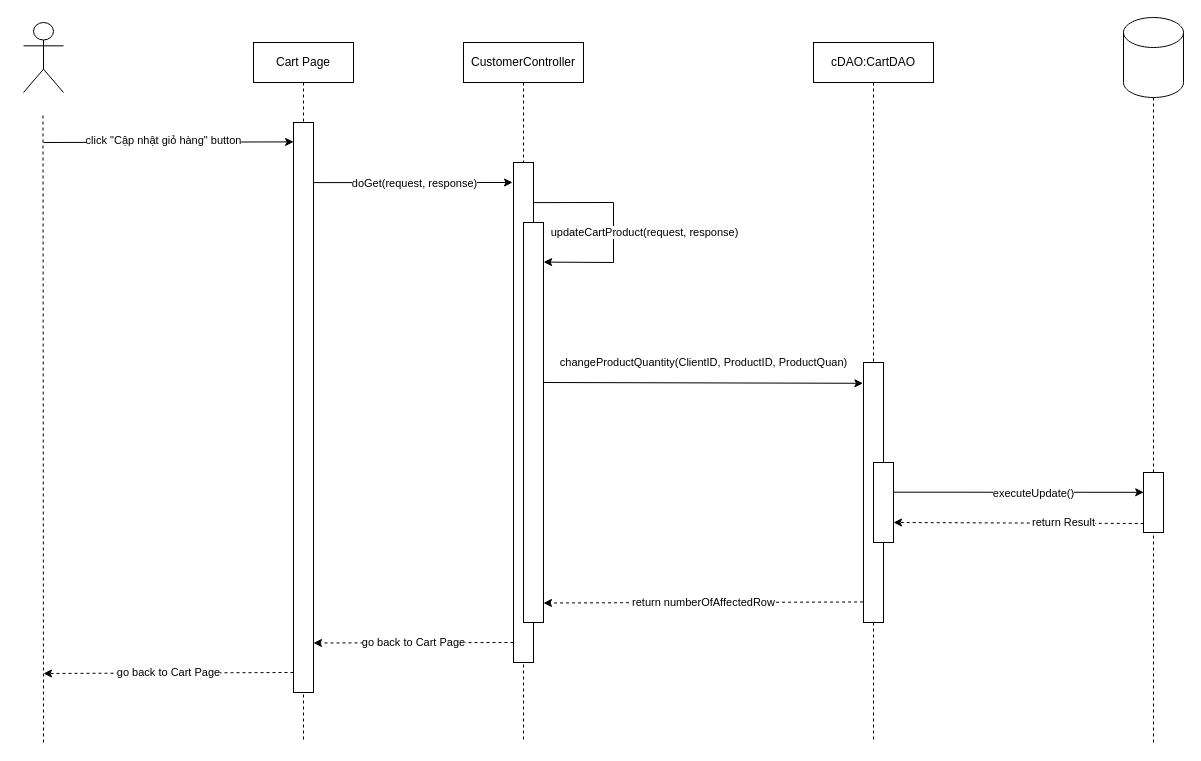
This 1201x761 diagram has some shape labels left out. Each missing label, with the box of its shape:
Customer: (22, 22, 64, 92)
Database: (1122, 16, 1184, 98)
